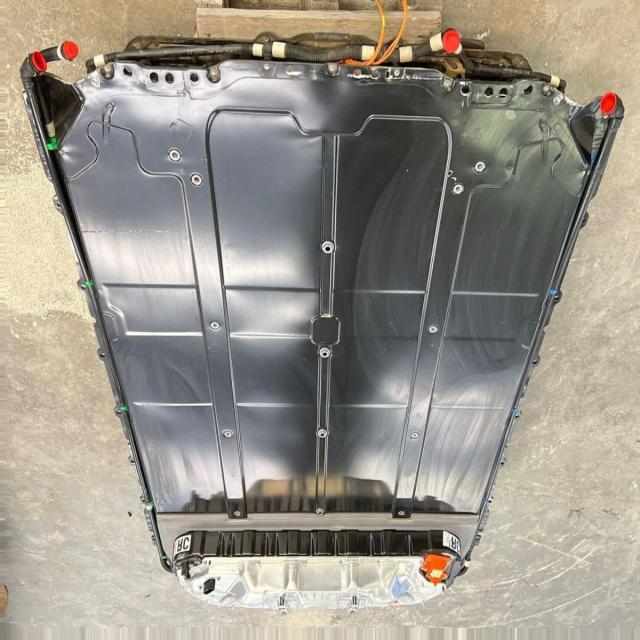Cable: (115, 32, 452, 63)
Nut: (319, 236, 342, 260), (316, 343, 336, 360), (315, 425, 329, 444), (314, 504, 326, 522)
Screw: (451, 173, 469, 200), (166, 142, 186, 166), (221, 425, 238, 449), (189, 173, 211, 191), (208, 318, 223, 340), (475, 159, 491, 177), (426, 324, 444, 340), (410, 429, 423, 450), (399, 507, 411, 527), (262, 60, 276, 76), (445, 76, 454, 98), (233, 507, 244, 522), (551, 97, 564, 109)
